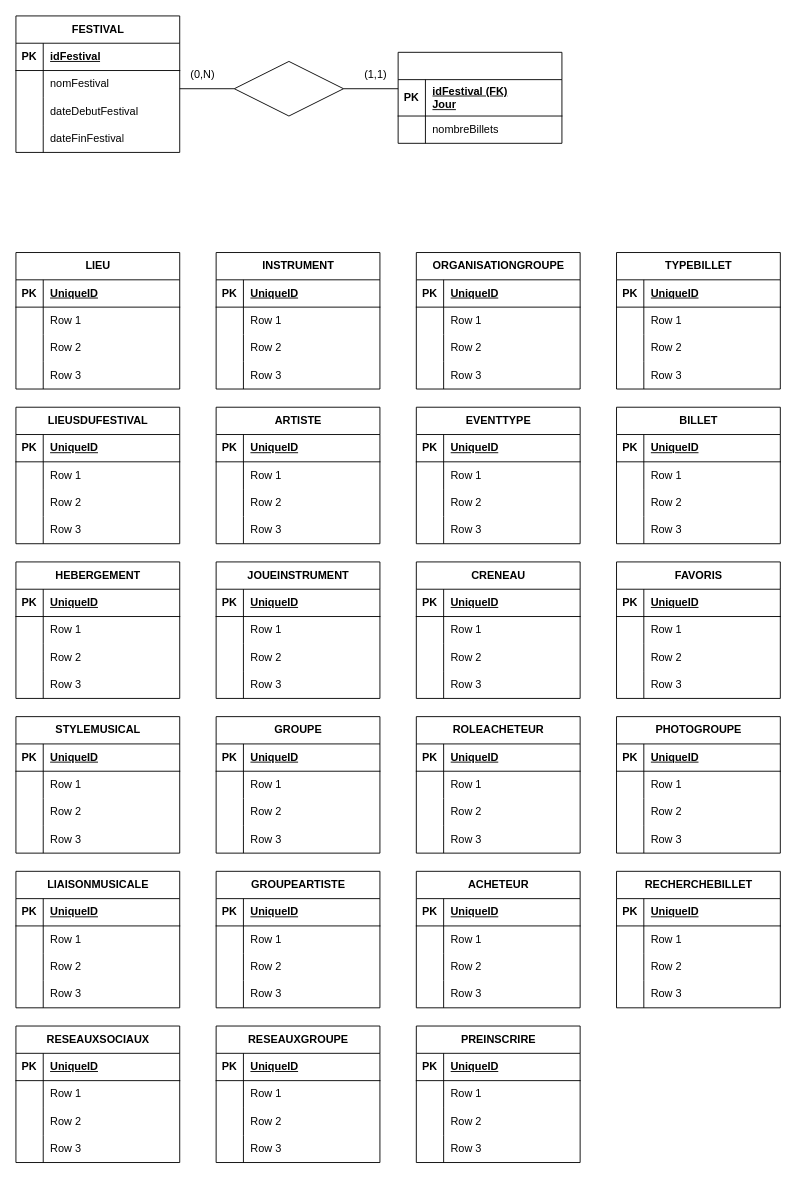
The diagram is 796 pixels wide and 1178 high, and some of its shapes have lost their labels. The box of each missing label's shape, as (x1, y1, x2, y2) in pixels:
Billets Par Jour: (397, 51, 562, 143)
Limiter: (233, 61, 344, 116)
